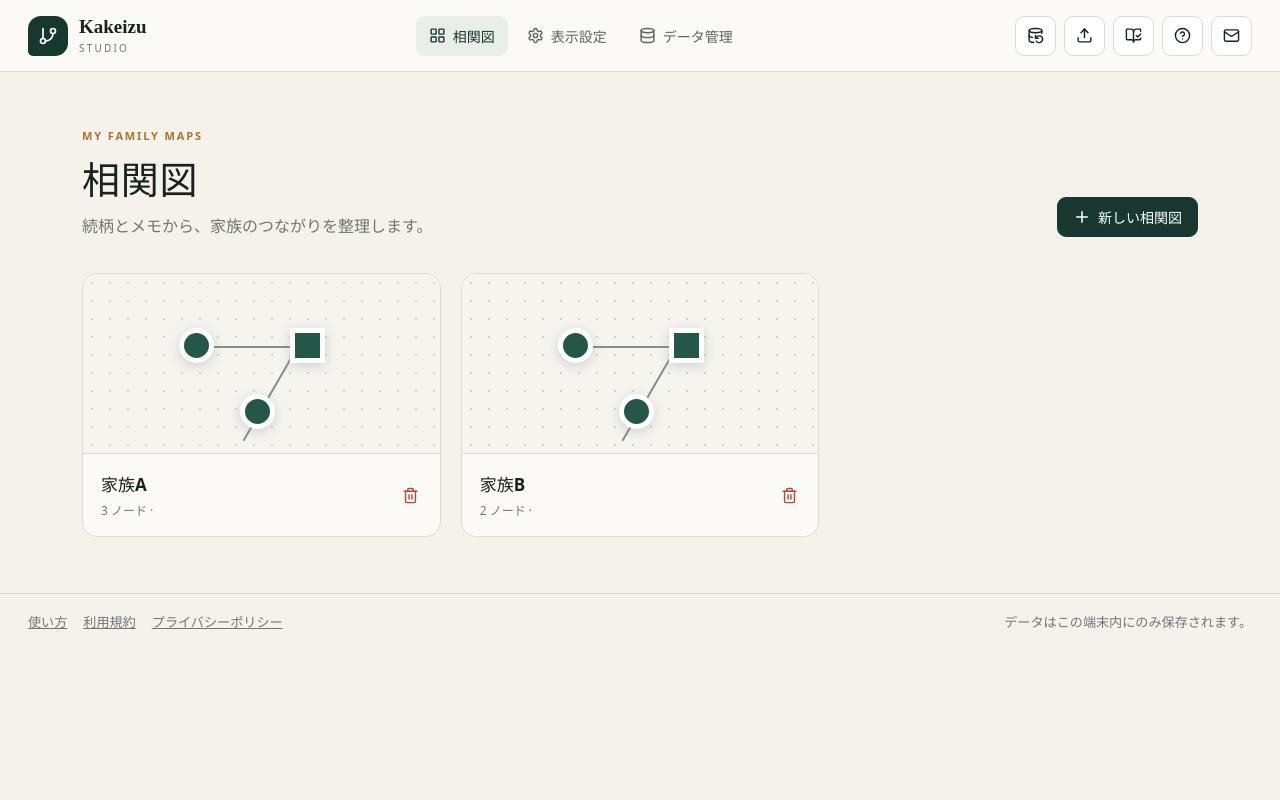
Test: 相関図一覧の個別JSON書き出し › 選択をキャンセルすると通常のカード操作に戻る
This screenshot has width=1280, height=800.
Click the button named "相関図を選択してバックアップ": (1036,36) [1015,16,1056,56]
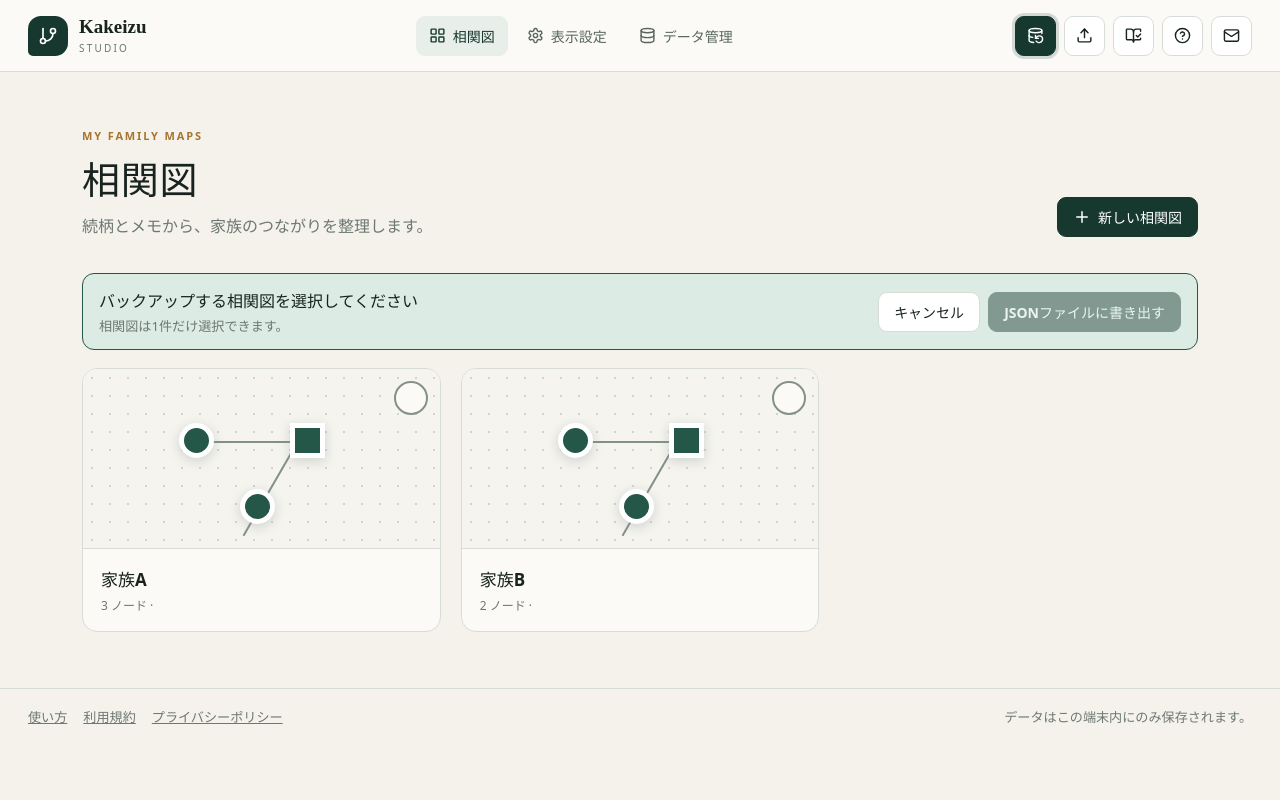
Now the button "家族Aを開く" is gone
Now the button "家族Aを削除" is gone
Click the button "キャンセル": (929,312) [878,292,980,332]
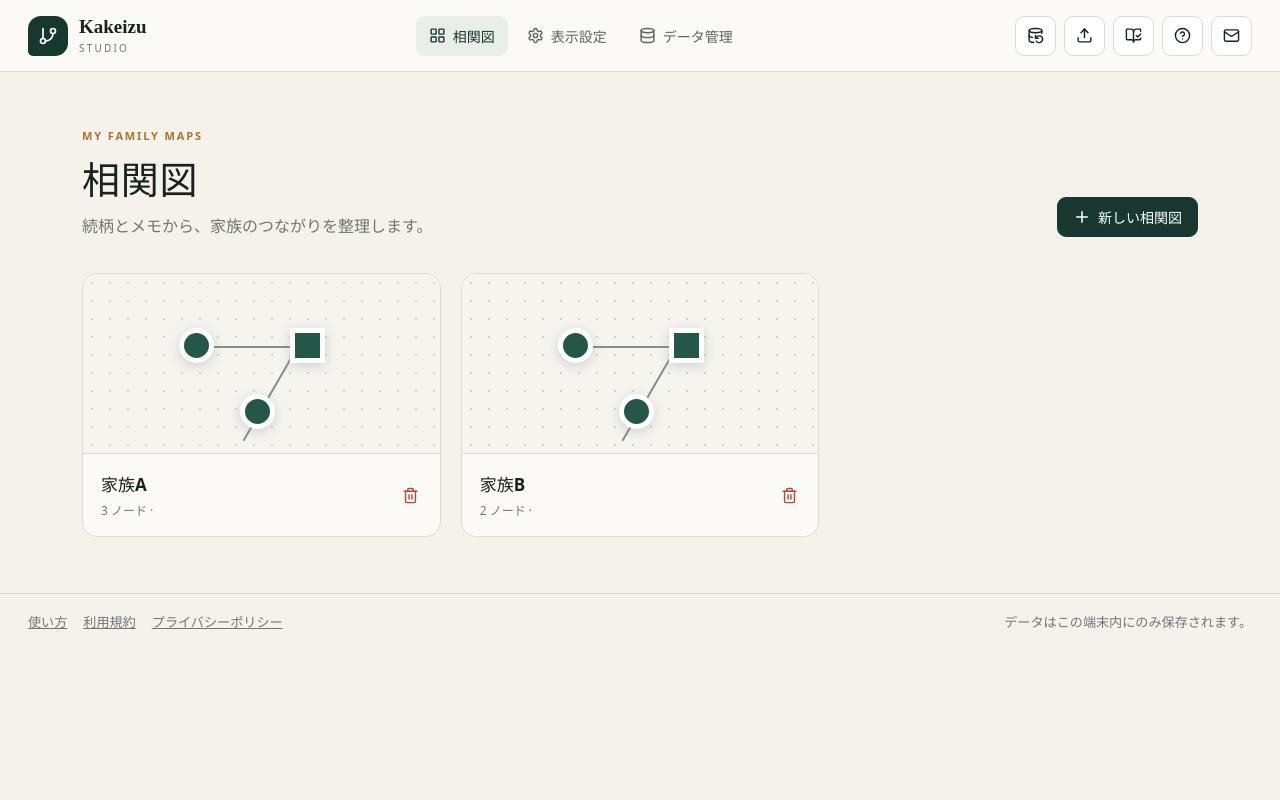
Now the button named "家族Aを開く" is shown, box [83,274,440,454]
Now the button named "家族Aを削除" is shown, box [392,476,430,514]
